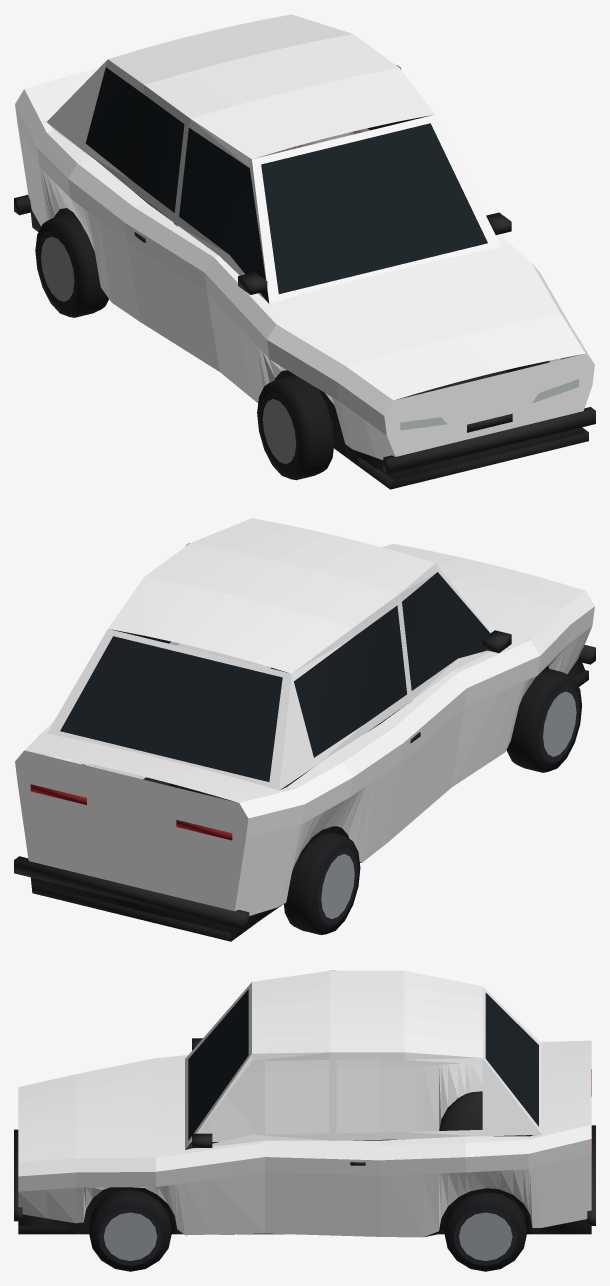
File: hayase_gota.glb
3 views of the same model, one above another, from view 1: azimuth 30°, elevation 25°; view 2: azimuth 150°, elevation 25°; view 3: azimuth 270°, elevation 25° (orthographic). The views are drawn at different scales.
Parts seen in each view (by area): view 1: Body_Paint, Body_Details, Mount_FrontLeft_Wheel_Details, Mount_RearLeft_Wheel_Details; view 2: Body_Paint, Body_Details, Mount_RearLeft_Wheel_Details, Mount_FrontLeft_Wheel_Details; view 3: Body_Paint, Body_Details, Mount_FrontRight_Wheel_Details, Mount_RearRight_Wheel_Details.
Part boxes in pixels (x1,y1,x2,y2): Body_Paint: (15,14,594,459); Body_Details: (14,67,595,489); Mount_FrontLeft_Wheel_Details: (257,375,334,480); Mount_RearLeft_Wheel_Details: (35,214,108,317); Body_Paint: (15,518,594,915); Body_Details: (14,572,595,941); Mount_RearLeft_Wheel_Details: (283,832,360,934); Mount_FrontLeft_Wheel_Details: (506,668,581,772); Body_Paint: (18,970,591,1237); Body_Details: (14,989,595,1237); Mount_FrontRight_Wheel_Details: (89,1189,171,1271); Mount_RearRight_Wheel_Details: (444,1192,526,1271).
Bounding box in the file's own units: 1.69 × 1.49 × 3.73.
2 materials, 1 textured.
